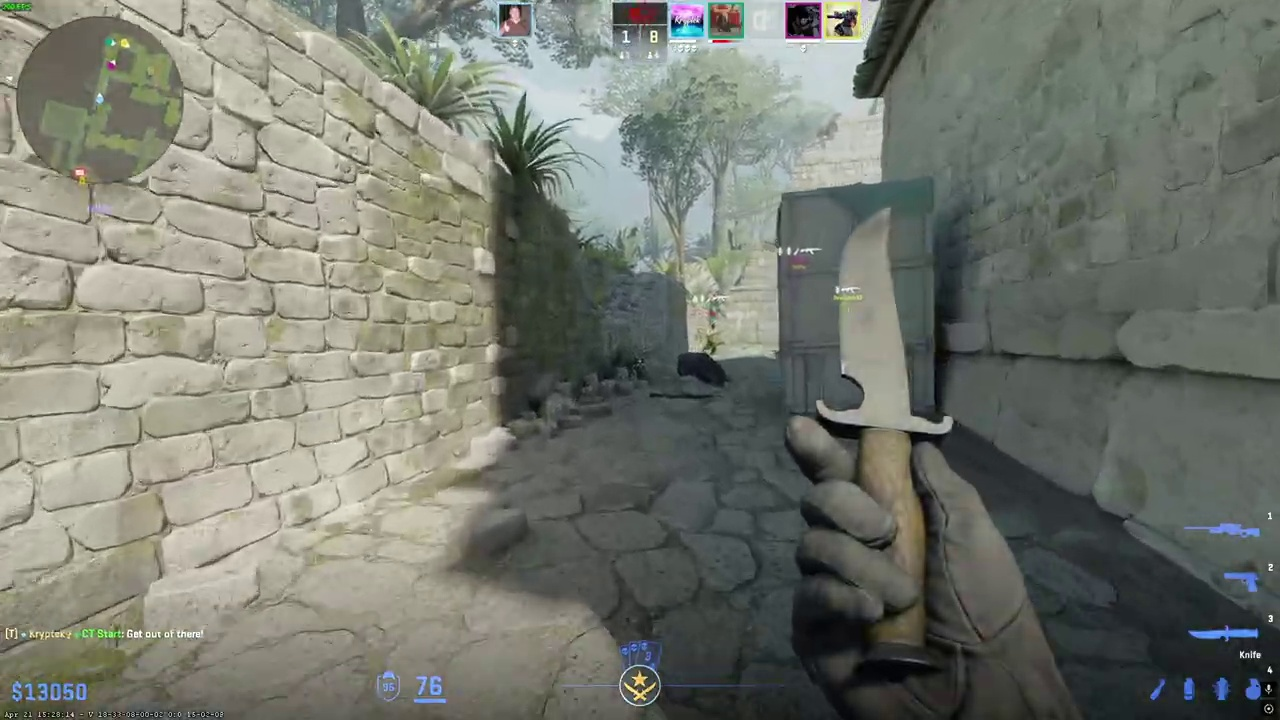Terrorist: (702, 323, 720, 356)
